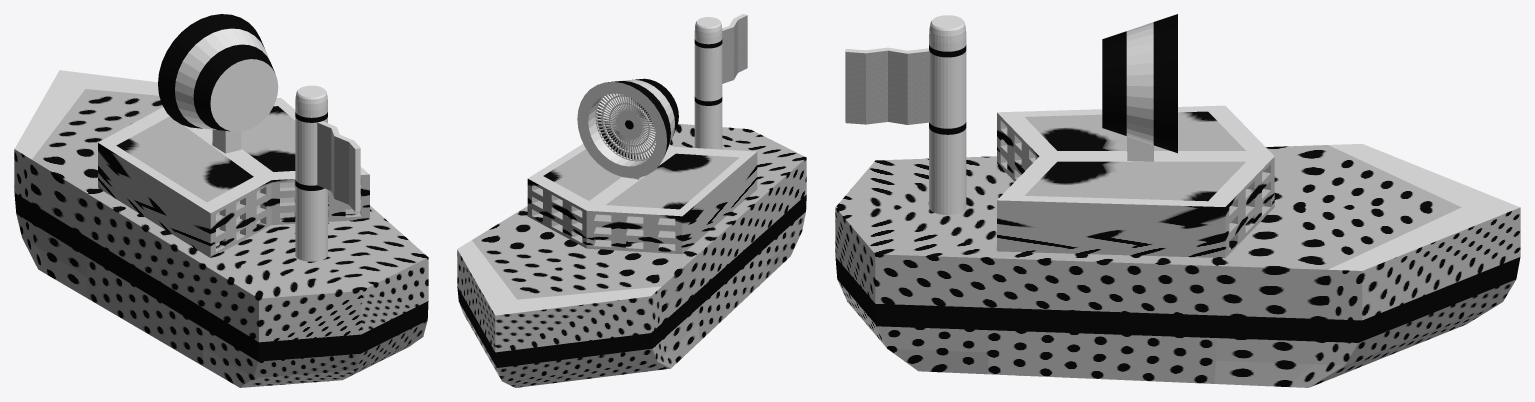
Rendered from SILVER_Flagship.fbx.
3 views of the same model, side by side, from view 1: azimuth 30°, elevation 25°; view 2: azimuth 150°, elevation 25°; view 3: azimuth 270°, elevation 25° (orthographic). The views are drawn at different scales.
Visible parts, largest first — view 1: Cube, Cylinder, Cylinder.001; view 2: Cube, Cylinder, Cylinder.001; view 3: Cube, Cylinder.001, Cylinder.
Boxes of the visible parts, bbox=[...] form: Cube: bbox=[14, 70, 428, 387]; Cylinder: bbox=[158, 14, 278, 153]; Cylinder.001: bbox=[295, 85, 360, 261]; Cube: bbox=[457, 123, 806, 387]; Cylinder: bbox=[577, 78, 678, 179]; Cylinder.001: bbox=[694, 14, 747, 149]; Cube: bbox=[835, 105, 1520, 387]; Cylinder.001: bbox=[845, 15, 966, 214]; Cylinder: bbox=[1102, 14, 1177, 161].
Bounding box in the file's own units: 510 × 569 × 1160.
